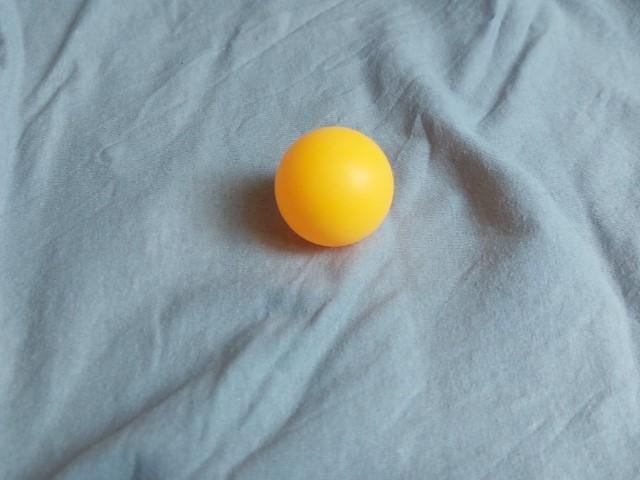oball: (262, 121, 404, 256)
